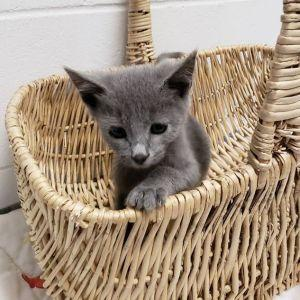rblue: (65, 40, 206, 183)
